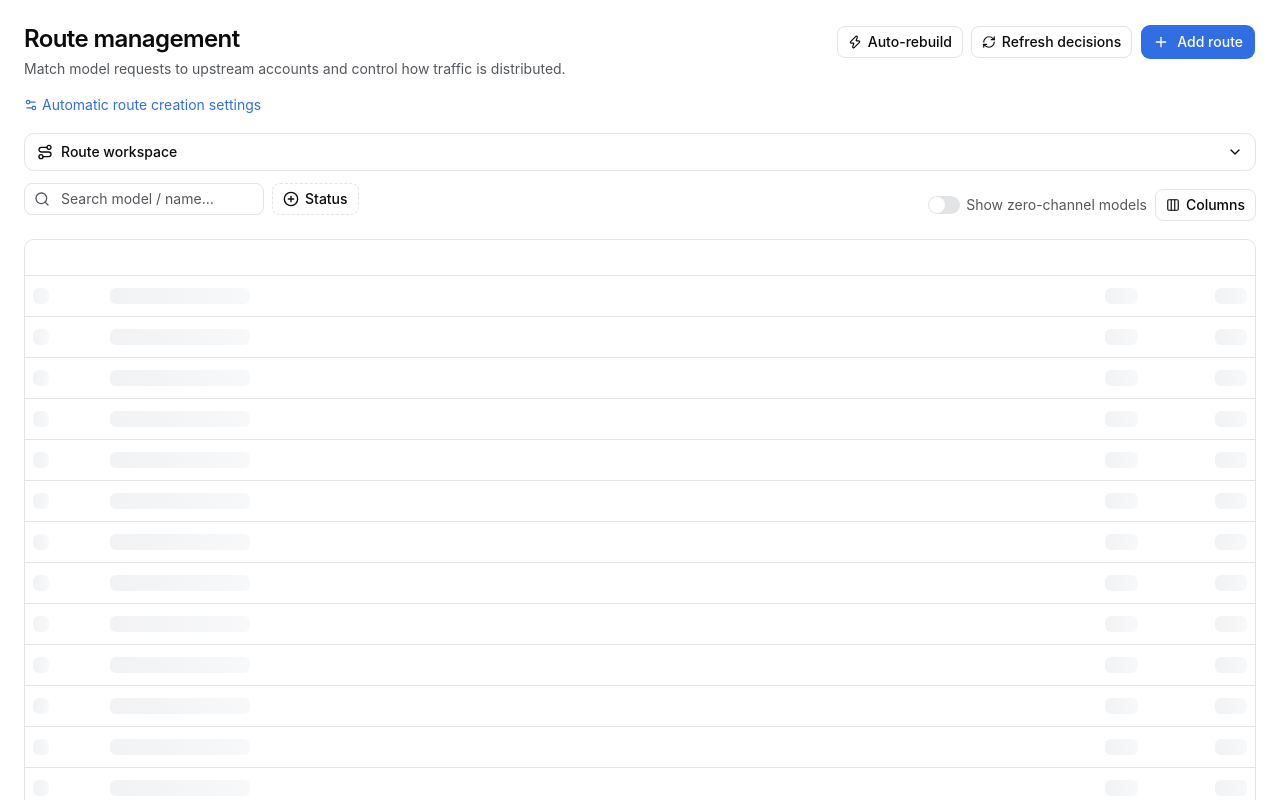
Scenario: RoutesPage manual account binding from the account snapshot › does not offer discovery as a prerequisite when no account has relay credentials
Expected: the heading "Route management" is shown, [24,24,240,53]
Step 1. Click the button "Add route" → (1198, 42), box [1140,24,1256,60]
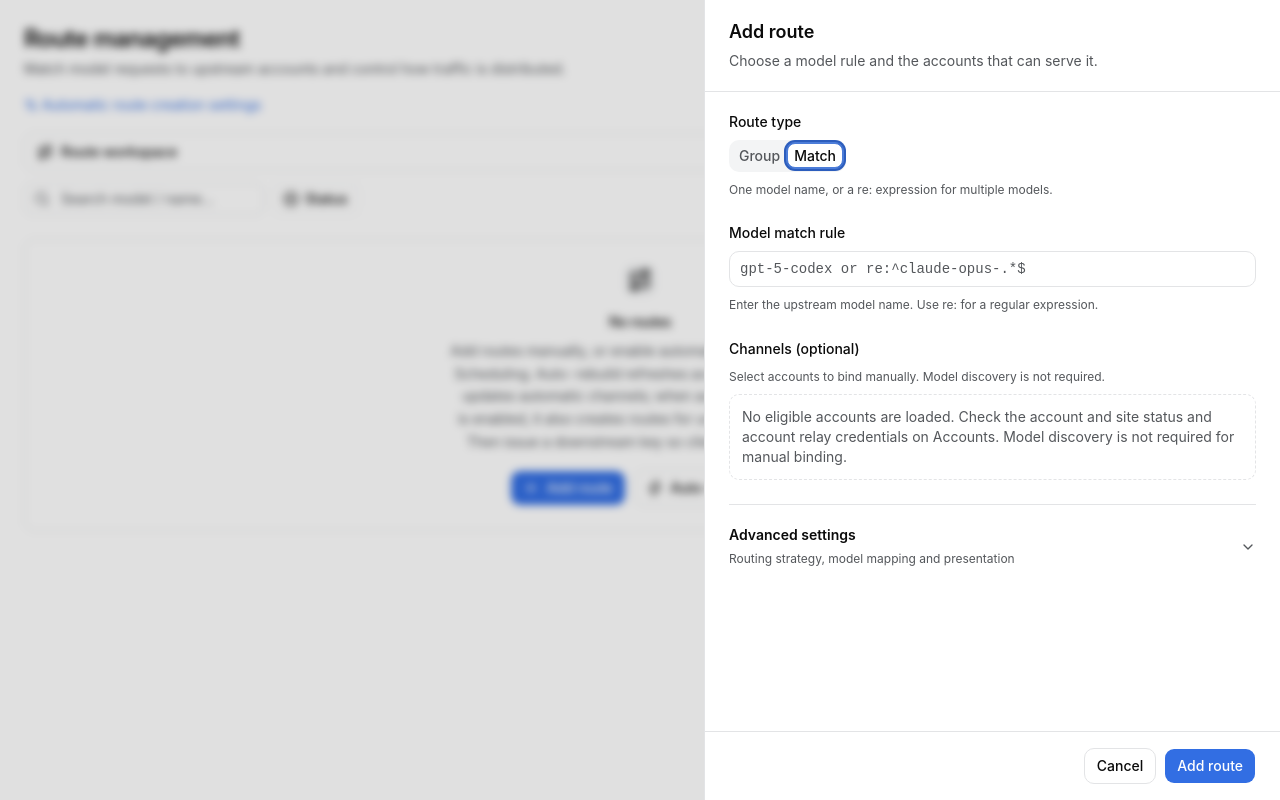
Expected: the text "No eligible accounts are loaded" is shown, [742,408,1234,465]
